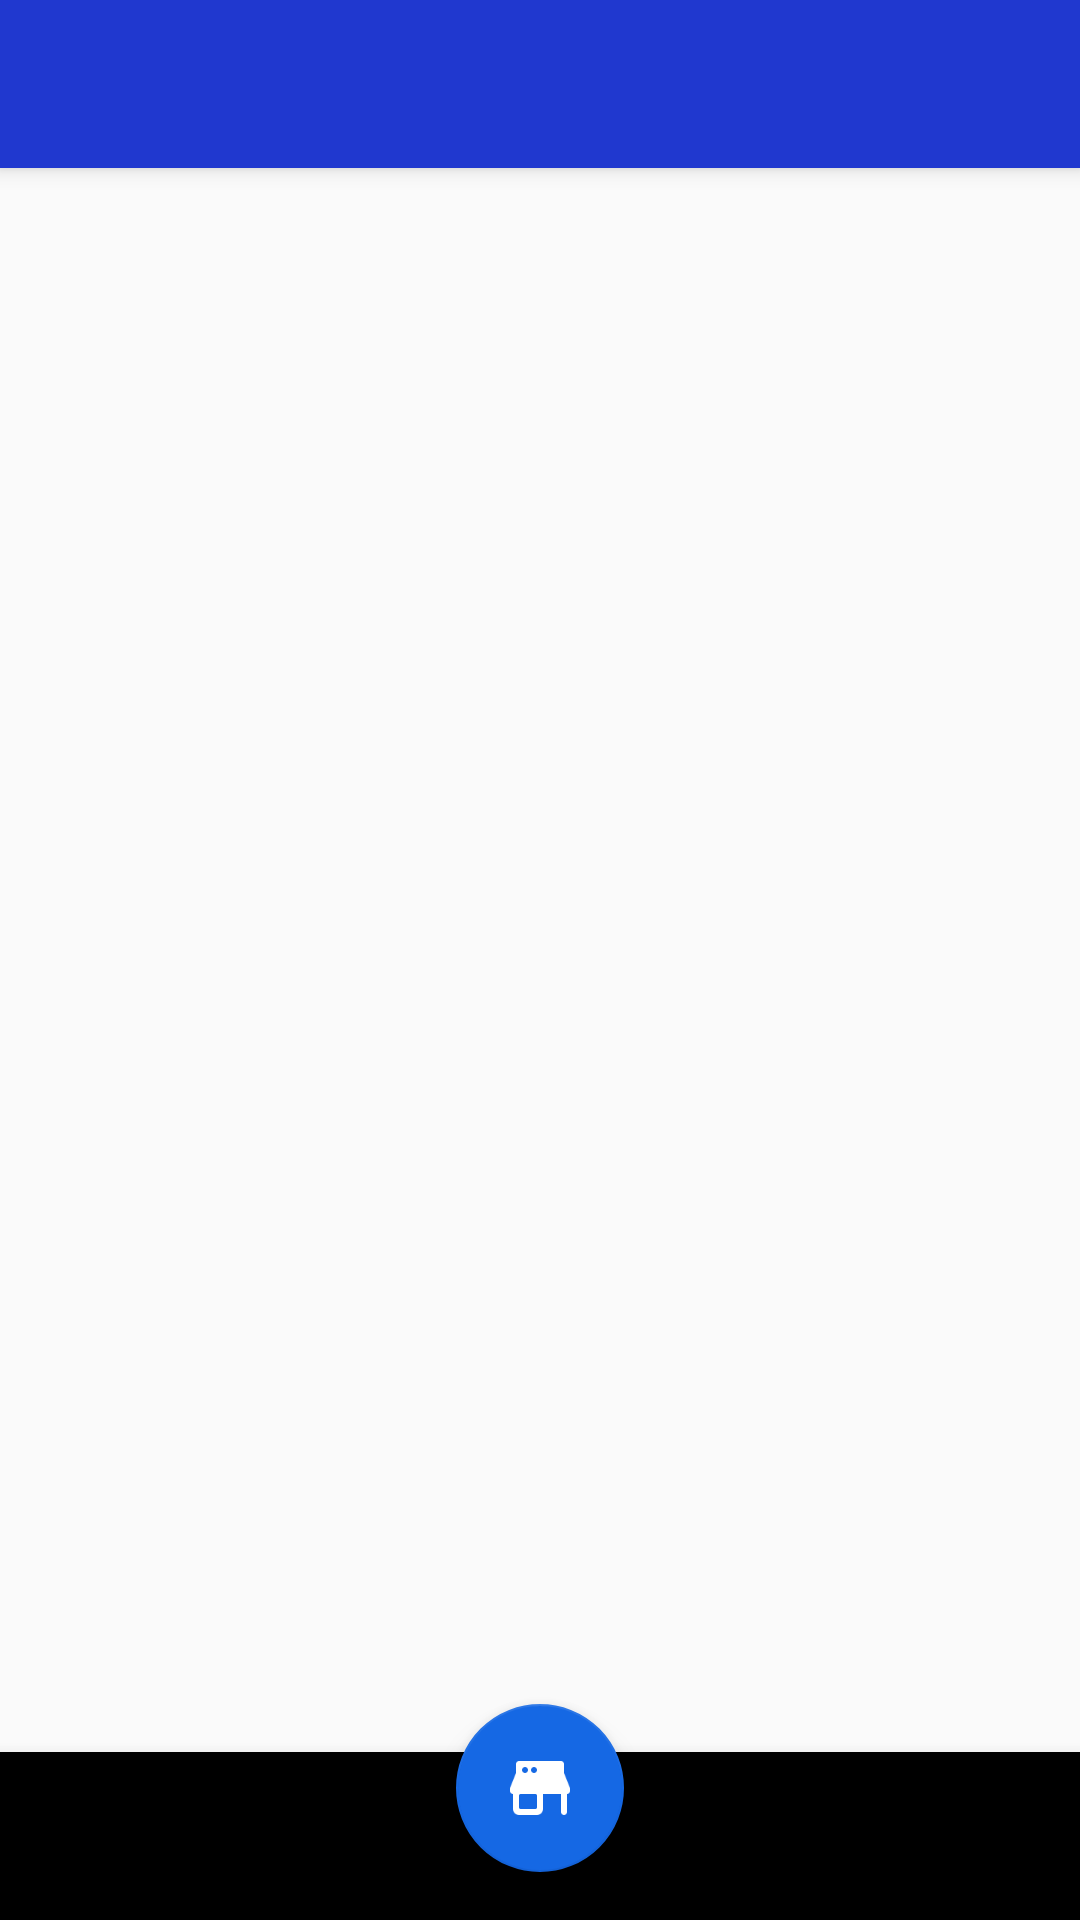

Locate icon controls on the screen. Image size 1080w x 1920h, boxes as (x1, y1, x2, y2).
store: (456, 1704, 624, 1872)
